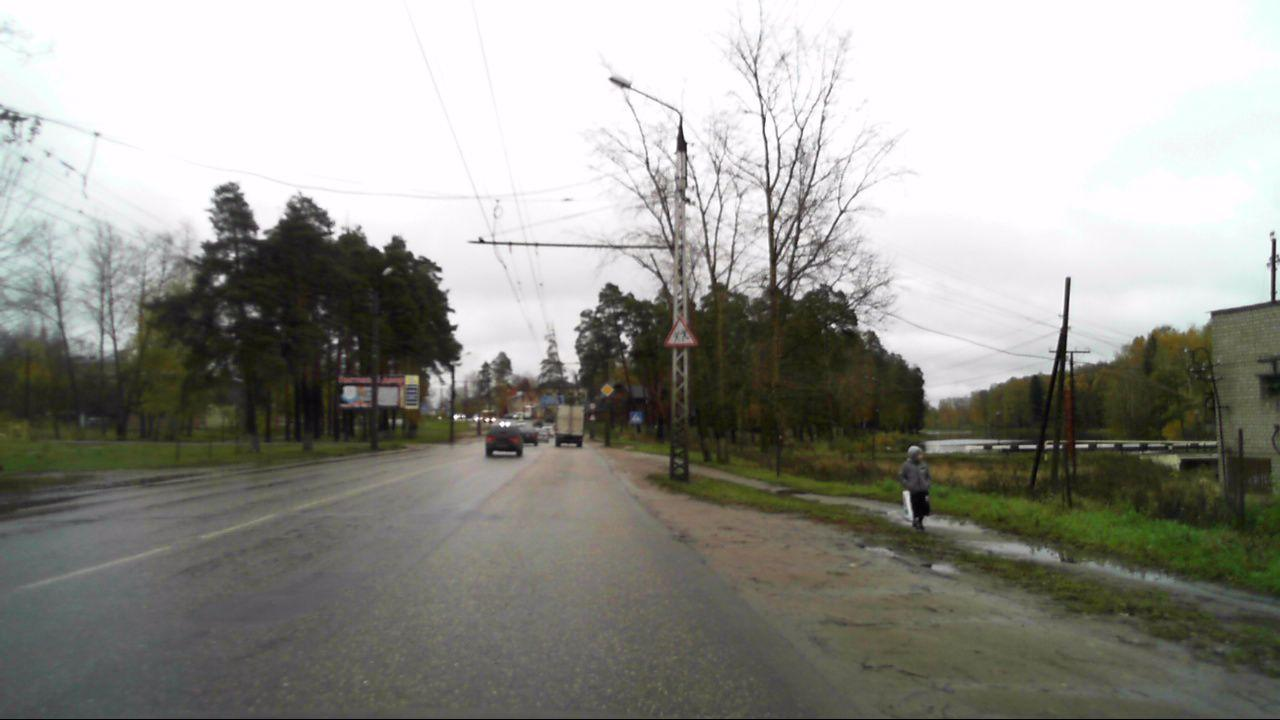road_sign: (661, 314, 700, 347)
